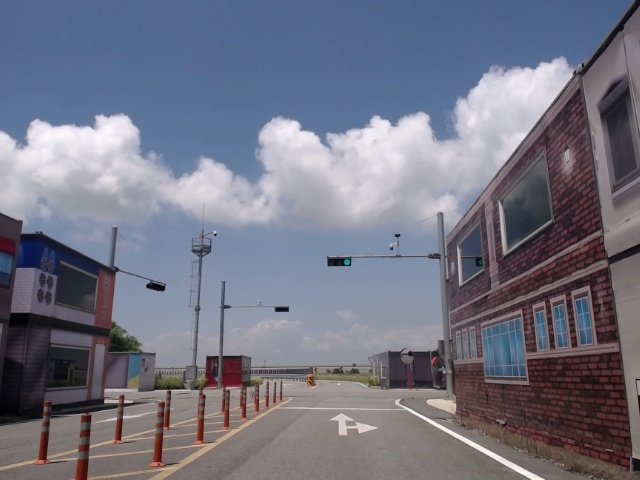green_3: (329, 258, 351, 266)
